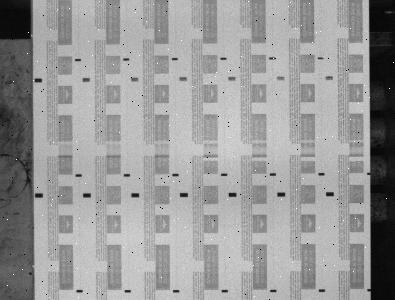backgroundclutter: (29, 272, 32, 275), (32, 265, 35, 268)
incorrect qblock: (131, 77, 138, 82), (228, 76, 236, 80), (179, 77, 187, 81), (83, 78, 90, 82), (277, 76, 284, 80), (326, 76, 333, 80), (367, 288, 372, 291), (367, 172, 371, 175)
qblock: (228, 192, 237, 197), (35, 193, 43, 198), (277, 192, 285, 197), (34, 78, 42, 82), (83, 193, 91, 197), (326, 192, 334, 196), (131, 193, 139, 197), (180, 193, 188, 197)
smallqblock: (124, 289, 131, 293), (173, 289, 179, 293), (76, 289, 83, 292), (123, 58, 130, 61), (220, 57, 227, 60), (270, 289, 277, 292), (221, 289, 228, 292), (269, 57, 276, 60), (75, 174, 82, 177), (172, 173, 179, 176), (123, 174, 130, 177), (221, 173, 228, 176), (75, 58, 81, 61), (172, 57, 178, 60), (319, 289, 325, 292), (270, 173, 276, 176), (318, 173, 325, 175), (318, 57, 324, 59)
